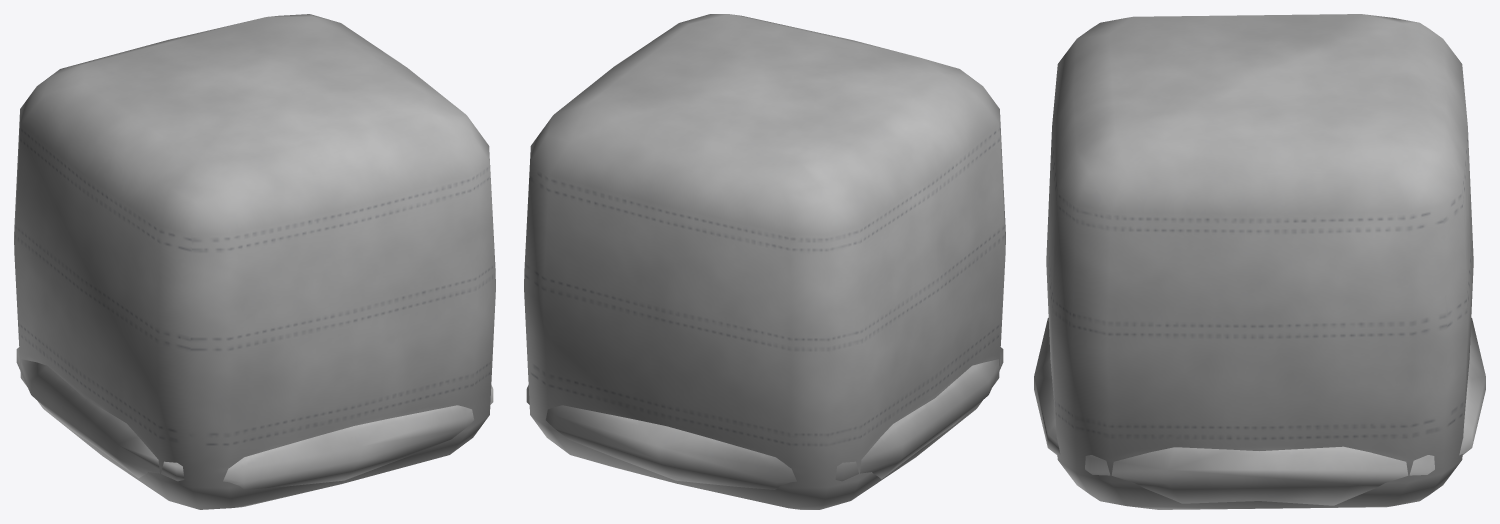
The model's file is RightLowerArm_C1.fbx.
The picture shows the model from 3 angles, left to right: view 1: azimuth 30°, elevation 25°; view 2: azimuth 150°, elevation 25°; view 3: azimuth 270°, elevation 25°; orthographic projection. The views are drawn at different scales.
Visible parts, largest first — view 1: Civ_CamperaJean_RightLowerArm_C1; view 2: Civ_CamperaJean_RightLowerArm_C1; view 3: Civ_CamperaJean_RightLowerArm_C1.
Part boxes in pixels (bbox=[...]): Civ_CamperaJean_RightLowerArm_C1: bbox=[14, 14, 495, 509]; Civ_CamperaJean_RightLowerArm_C1: bbox=[524, 14, 1005, 509]; Civ_CamperaJean_RightLowerArm_C1: bbox=[1034, 14, 1485, 509].
Size of the model in its own units: 1.26 by 1.19 by 1.29.
